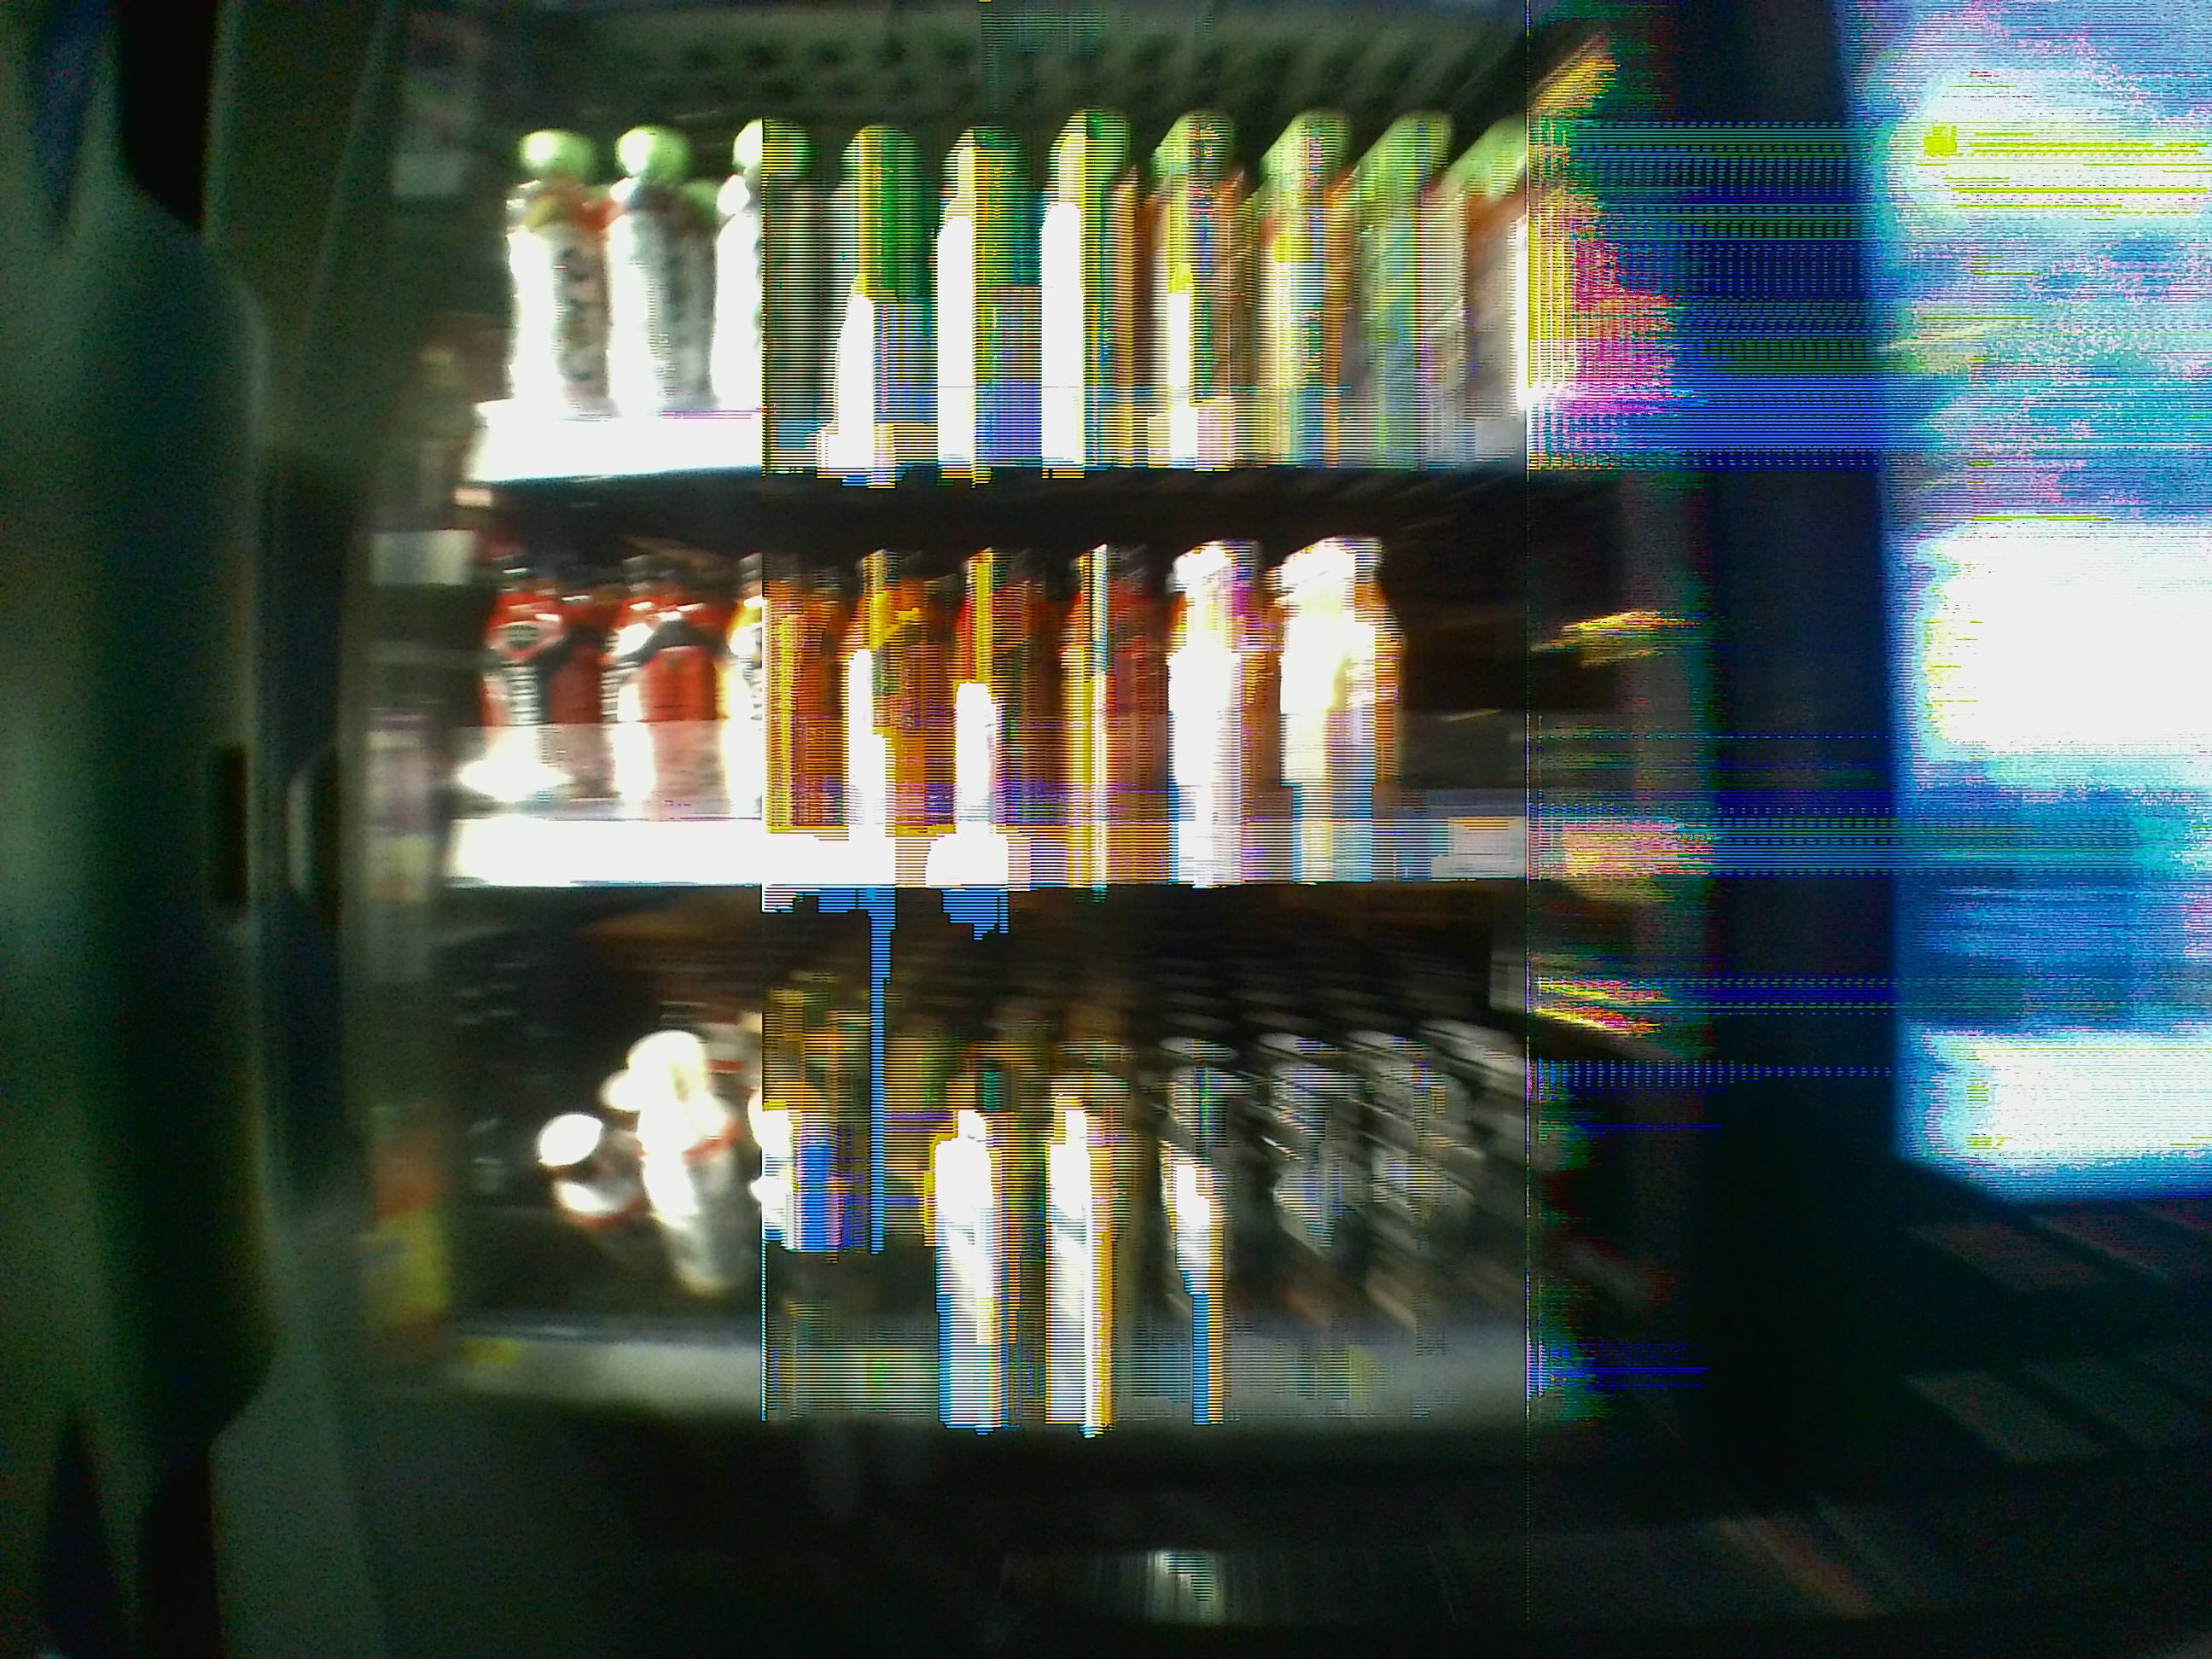shelf: (399, 889, 1698, 1415), (395, 12, 1691, 474), (402, 471, 1688, 887)
